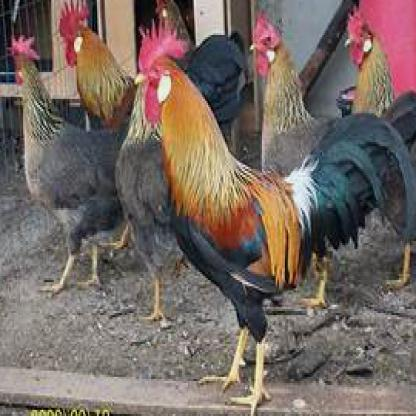chicken: (132, 18, 415, 415), (5, 31, 110, 294), (342, 6, 415, 295), (247, 16, 318, 173), (54, 0, 122, 126)
